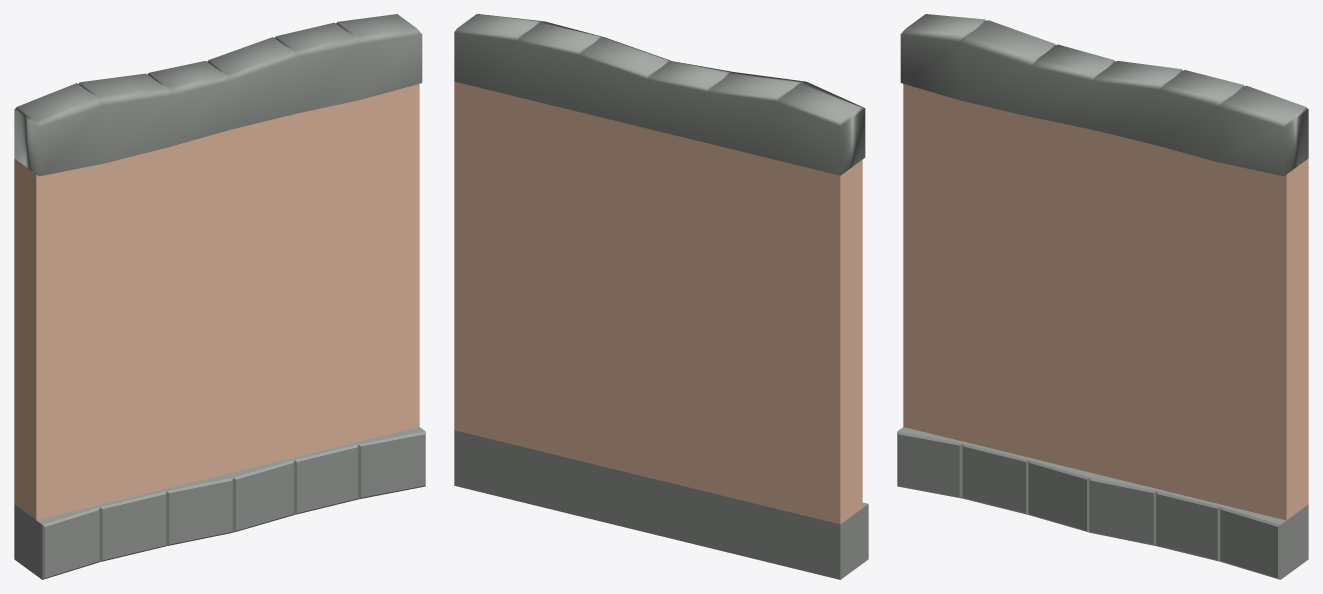
File: Wall3.fbx
The picture shows the model from 3 angles, left to right: view 1: azimuth 30°, elevation 25°; view 2: azimuth 150°, elevation 25°; view 3: azimuth 330°, elevation 25°; orthographic projection.
Visible parts, largest first — view 1: Cube.033; view 2: Cube.033; view 3: Cube.033.
Boxes of the visible parts, x1=… form: Cube.033: x1=14, y1=14, x2=425, y2=579; Cube.033: x1=454, y1=14, x2=868, y2=579; Cube.033: x1=897, y1=14, x2=1308, y2=579.
Bounding box in the file's own units: 200 × 231 × 26.17.
Materials: 1 (1 with a texture image).
